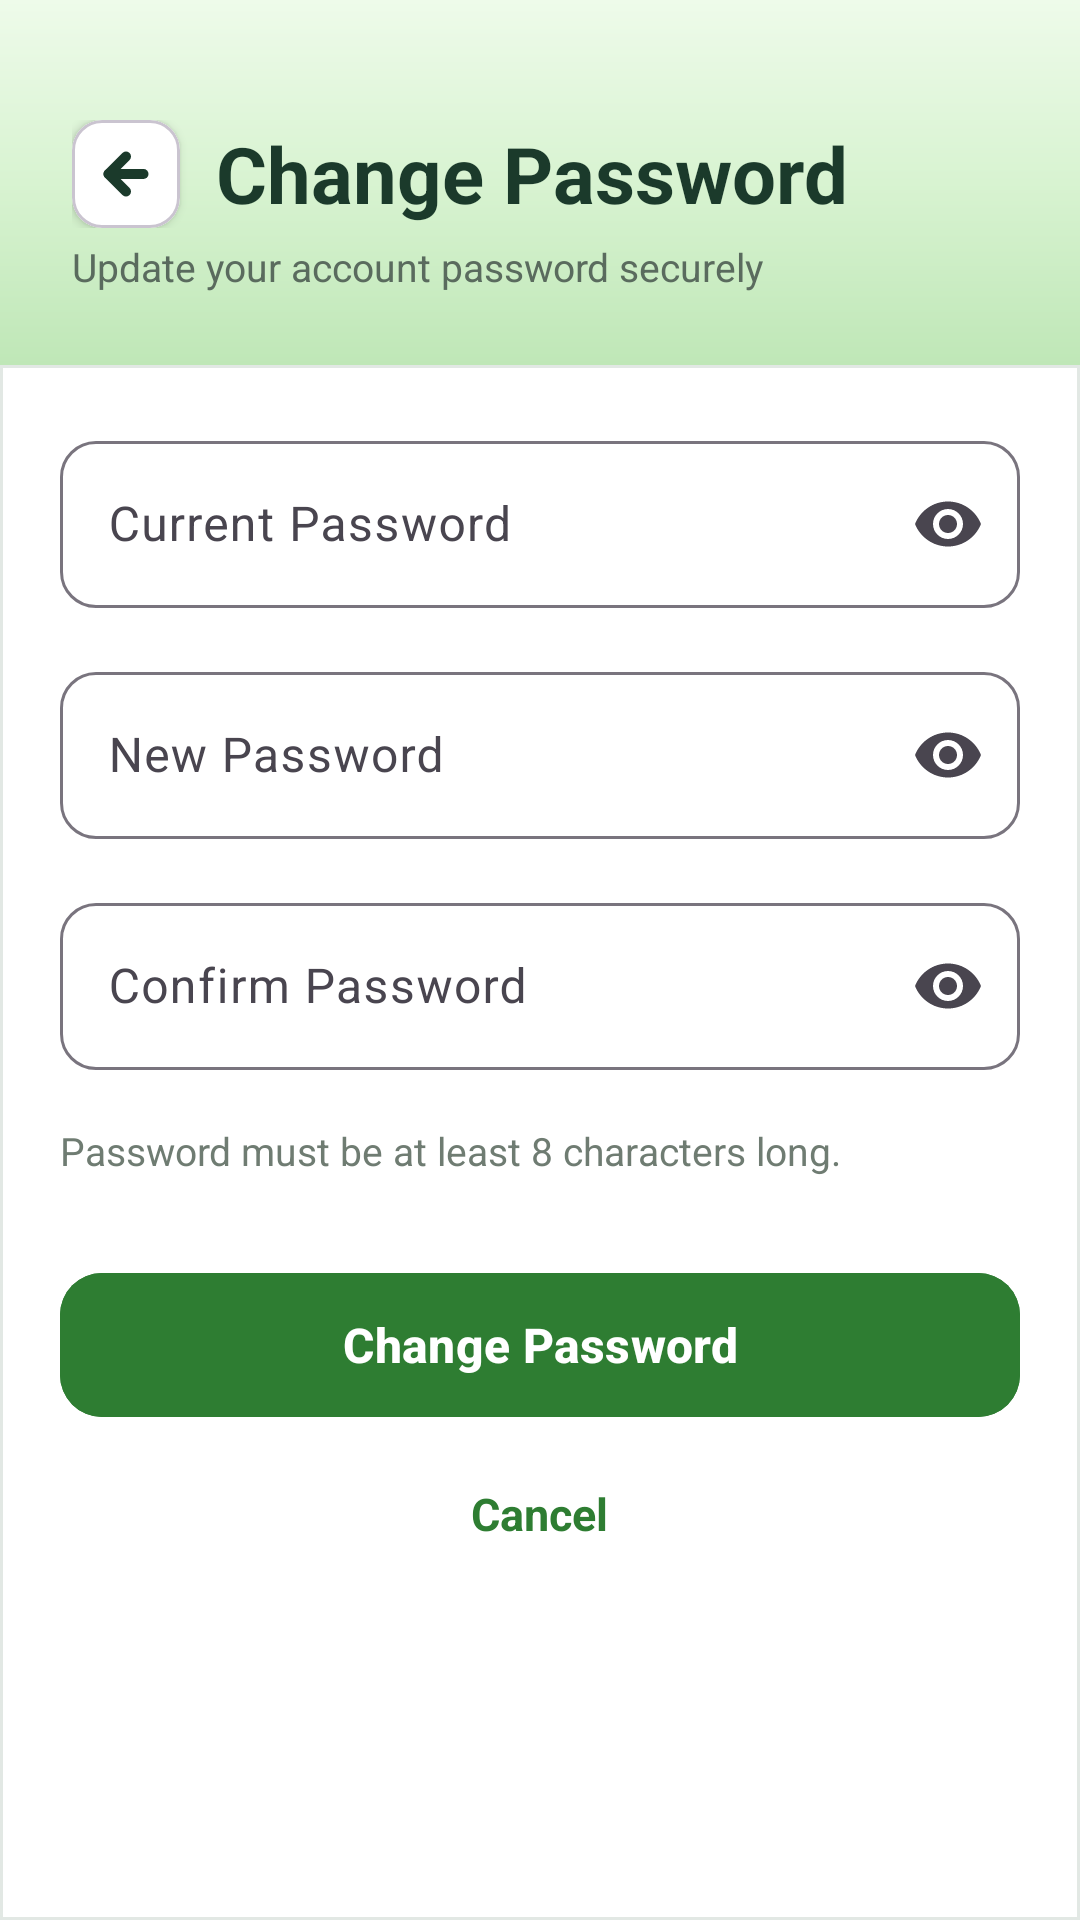

Named icons in this screenshot (1080w x 1920h) and their centers, (x=x, y=y):
back arrow: (x=126, y=174)
